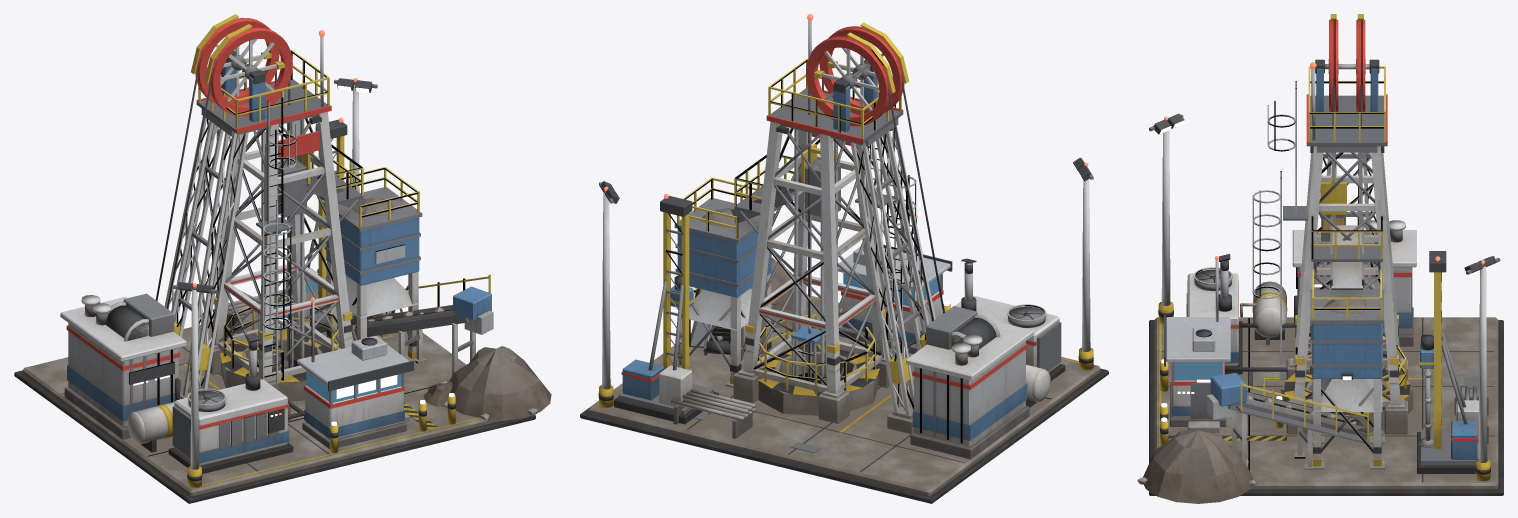
The model's file is mine.glb.
3 renders of one model, left to right at view 1: azimuth 30°, elevation 25°; view 2: azimuth 150°, elevation 25°; view 3: azimuth 270°, elevation 25°, orthographic.
Parts seen in each view (by area): view 1: Build0Body, Build2Body, Build6Body, Build9Body, Build8Body, Build12Body, Build4Body, Build3Body, Build10Body, Build5Body, WheelBody, Build1Body (+6 smaller); view 2: Build0Body, Build2Body, Build6Body, Build4Body, Build8Body, Build3Body, Build1Body, Build5Body, WheelBody, MastBody, MastsBody, Build11Body (+8 smaller); view 3: Build0Body, Build9Body, Build8Body, Build3Body, Build12Body, Build2Body, Build5Body, MastsBody, Build6Body, Build10Body, Build11Body, Build1Body (+6 smaller).
Boxes of the visible parts, bbox=[...] form: Build0Body: bbox=[14, 311, 535, 503]; Build2Body: bbox=[211, 119, 352, 384]; Build6Body: bbox=[60, 293, 186, 439]; Build9Body: bbox=[354, 274, 551, 420]; Build8Body: bbox=[323, 167, 422, 362]; Build12Body: bbox=[297, 297, 413, 449]; Build4Body: bbox=[164, 116, 248, 398]; Build3Body: bbox=[227, 97, 366, 248]; Build10Body: bbox=[168, 373, 305, 473]; Build5Body: bbox=[191, 14, 331, 136]; WheelBody: bbox=[195, 17, 292, 116]; Build1Body: bbox=[179, 302, 340, 401]; Build0Body: bbox=[580, 295, 1108, 503]; Build2Body: bbox=[743, 129, 916, 393]; Build6Body: bbox=[906, 306, 1033, 459]; Build4Body: bbox=[850, 126, 935, 419]; Build8Body: bbox=[674, 177, 774, 387]; Build3Body: bbox=[731, 96, 895, 260]; Build1Body: bbox=[733, 314, 913, 434]; Build5Body: bbox=[766, 14, 909, 146]; WheelBody: bbox=[806, 26, 904, 126]; MastBody: bbox=[648, 193, 692, 370]; MastsBody: bbox=[598, 157, 1093, 407]; Build11Body: bbox=[614, 359, 718, 424]; Build0Body: bbox=[1149, 317, 1503, 495]; Build9Body: bbox=[1137, 373, 1368, 503]; Build8Body: bbox=[1309, 269, 1384, 469]; Build3Body: bbox=[1267, 81, 1390, 289]; Build12Body: bbox=[1164, 256, 1230, 432]; Build2Body: bbox=[1252, 152, 1400, 406]; Build5Body: bbox=[1306, 14, 1387, 152]; MastsBody: bbox=[1149, 113, 1500, 481]; Build6Body: bbox=[1292, 220, 1416, 346]; Build10Body: bbox=[1186, 267, 1298, 388]; Build11Body: bbox=[1417, 400, 1478, 473]; Build1Body: bbox=[1281, 345, 1413, 434].
Bounding box in the file's own units: 11.8 × 11.15 × 9.72.
23 materials, 13 textured.
